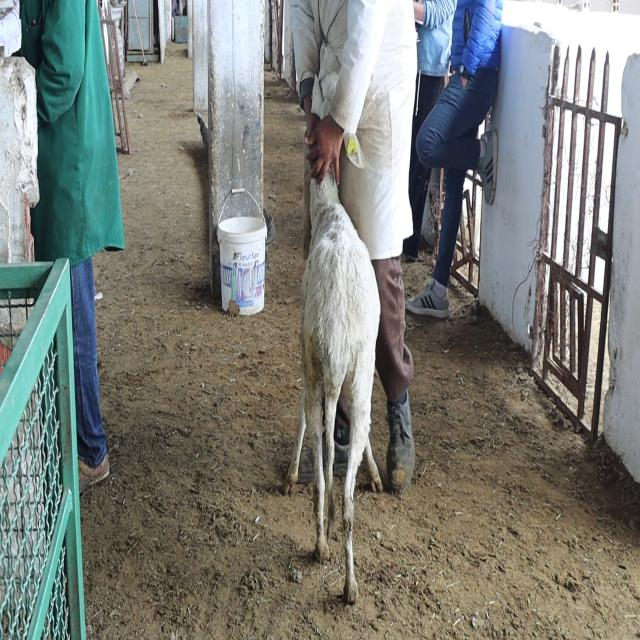Score_1: (283, 171, 383, 603)
